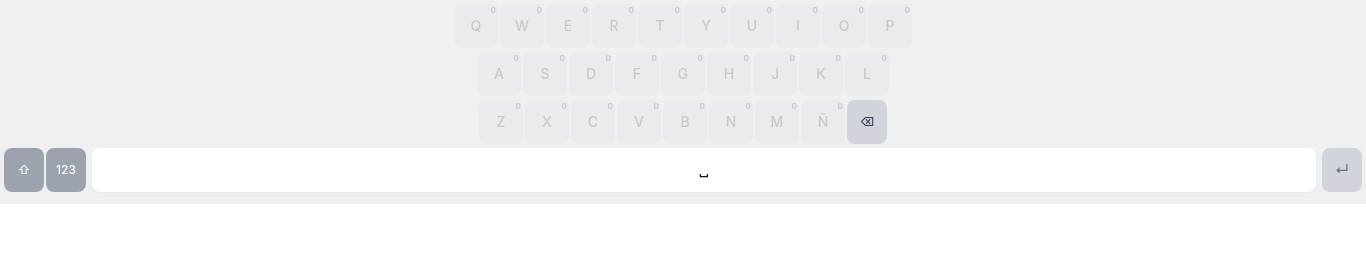
RestrictedKeyboard › renders all 22 symbol keys in symbols mode
This screenshot has width=1366, height=269.
Press the mouse on the button "123" at [66, 170], box [46,148,86,192]
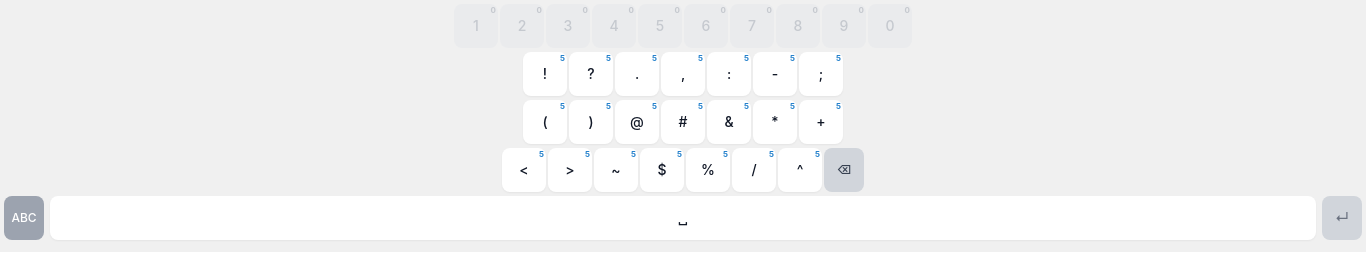
Expected: the button "! 5" is shown, [523,52,567,96]
Expected: the button "? 5" is shown, [569,52,613,96]
Expected: the button ". 5" is shown, [615,52,659,96]
